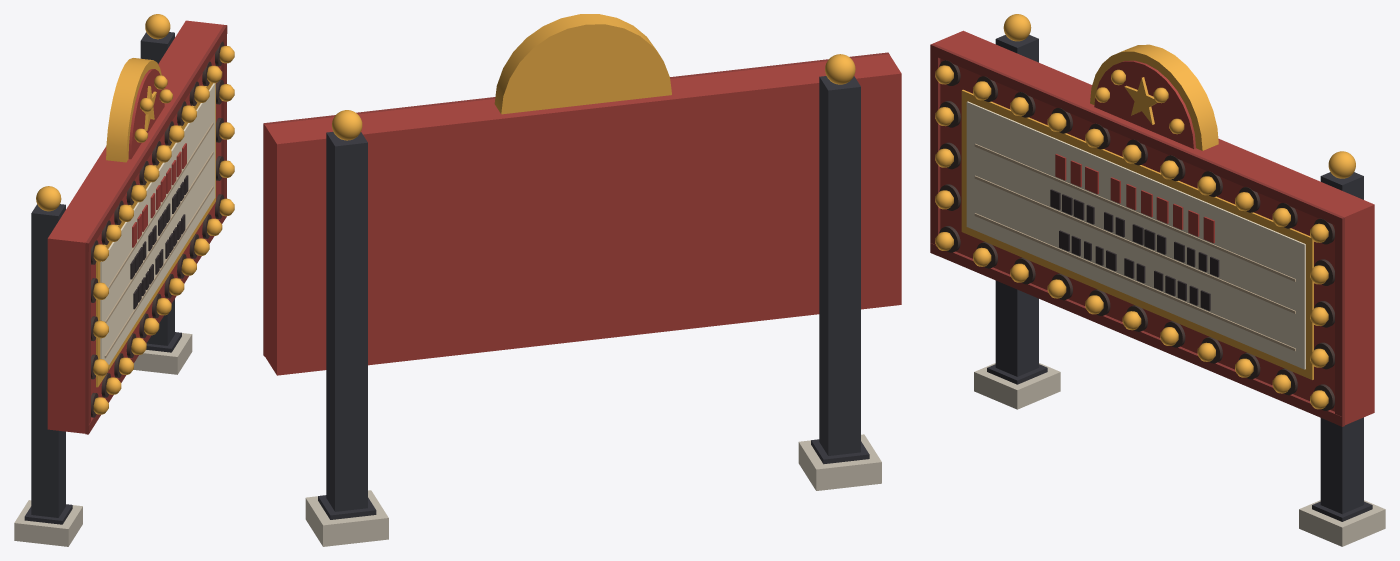
Rendered from marquee.glb.
3 views of the same model, side by side, from view 1: azimuth 30°, elevation 25°; view 2: azimuth 150°, elevation 25°; view 3: azimuth 270°, elevation 25° (orthographic). The views are drawn at different scales.
Parts seen in each view (by area): view 1: marquee; view 2: marquee; view 3: marquee.
Part boxes in pixels (x1,y1,x2,y2): marquee: [14, 14, 234, 546]; marquee: [263, 14, 901, 546]; marquee: [930, 14, 1385, 546].
Bounding box in the file's own units: 1.49 × 1.51 × 1.49.
